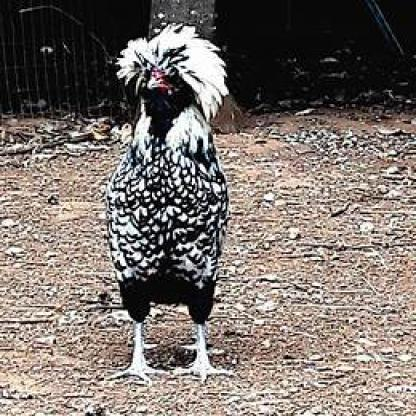chicken: (107, 23, 235, 385)
